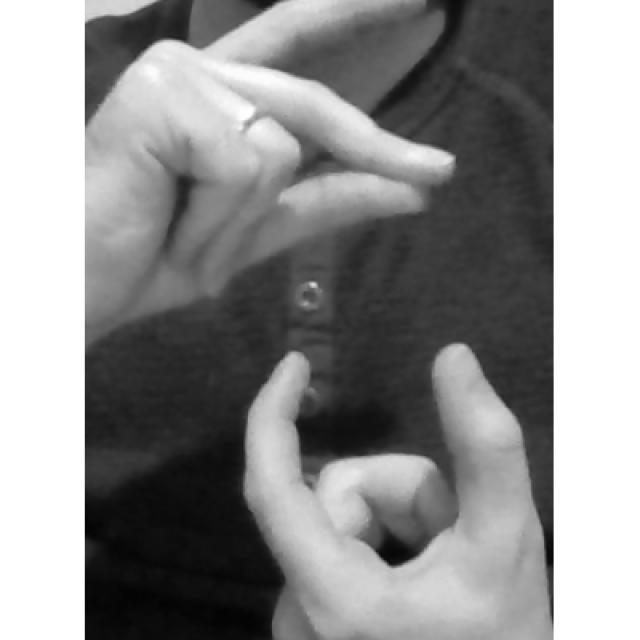U--: (84, 28, 552, 640)
